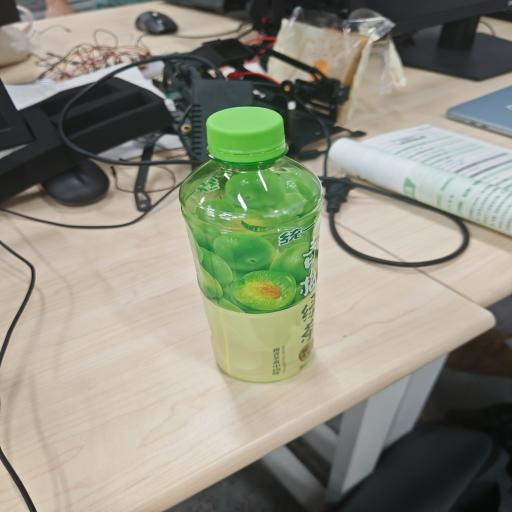mouse: (41, 160, 109, 205), (135, 11, 178, 35)
